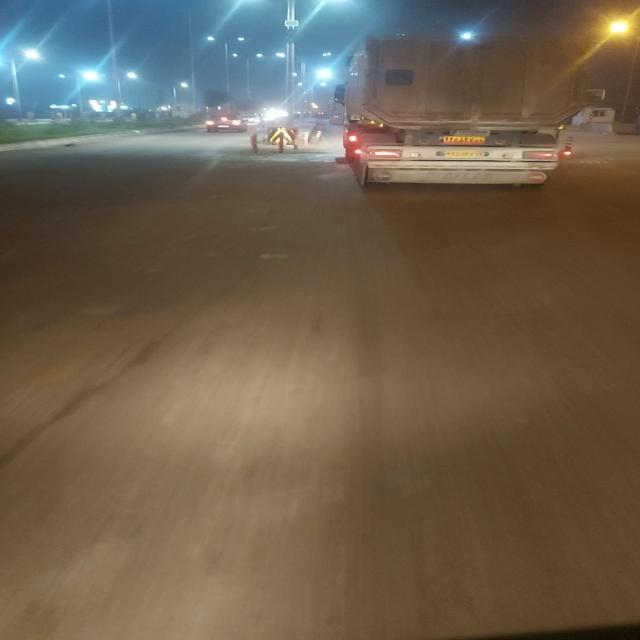Truck: (322, 26, 594, 194)
